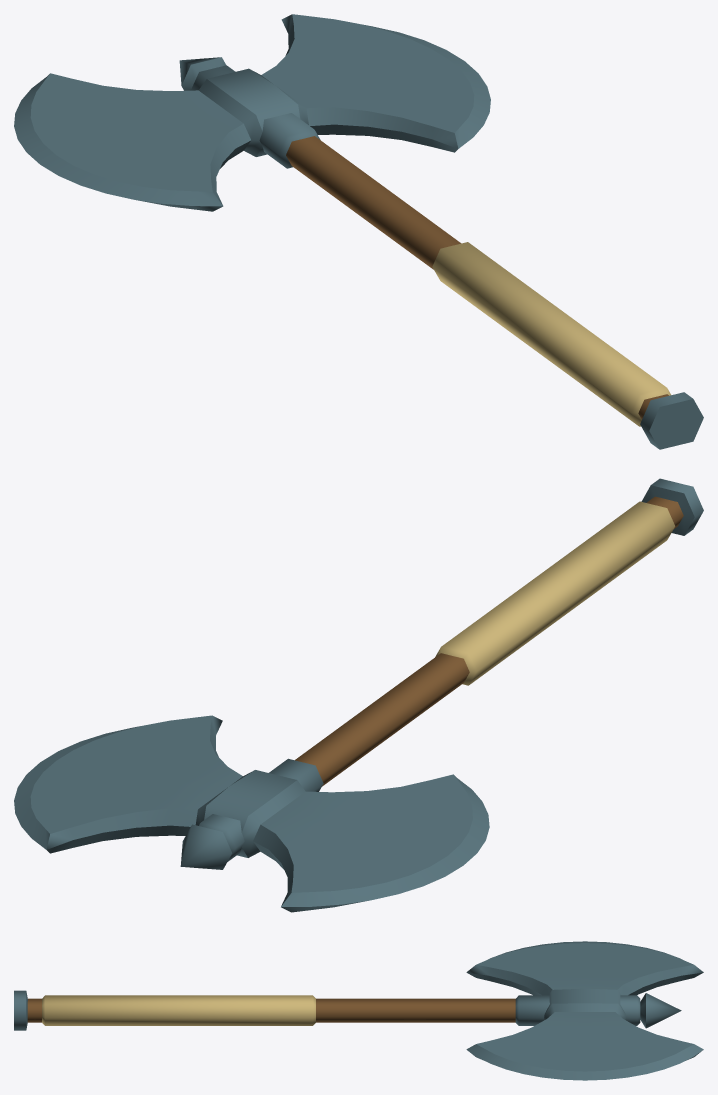
The model's file is obj_axeBattle.FBX.
3 renders of one model, top to bottom at view 1: azimuth 30°, elevation 25°; view 2: azimuth 150°, elevation 25°; view 3: azimuth 270°, elevation 25°, orthographic. The views are drawn at different scales.
Visible parts, largest first — view 1: obj_axeBattle; view 2: obj_axeBattle; view 3: obj_axeBattle.
Part boxes in pixels (x1=…): obj_axeBattle: x1=14, y1=14, x2=703, y2=449; obj_axeBattle: x1=14, y1=478, x2=703, y2=912; obj_axeBattle: x1=14, y1=941, x2=703, y2=1080.
Bounding box in the file's own units: 1.52 × 0.1528 × 3.18.
